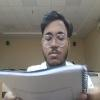notebook: (0, 63, 88, 99)
